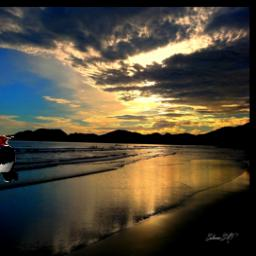Woodpecker: (0, 135, 18, 182)
